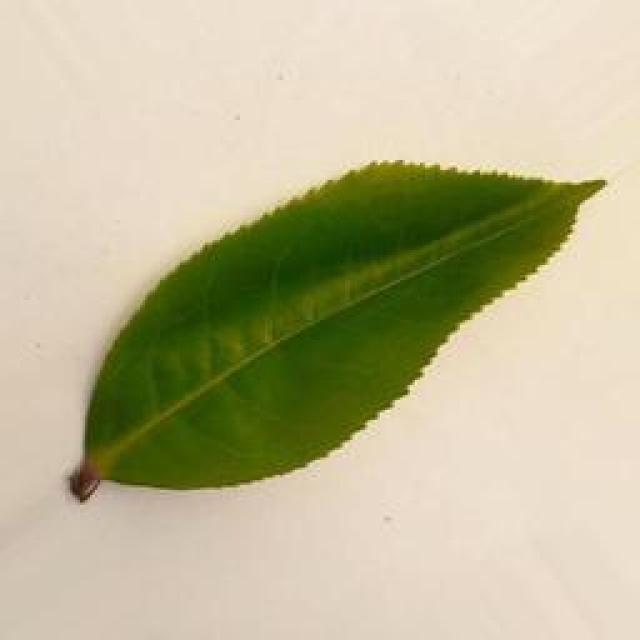Healthy: (64, 151, 589, 496)
